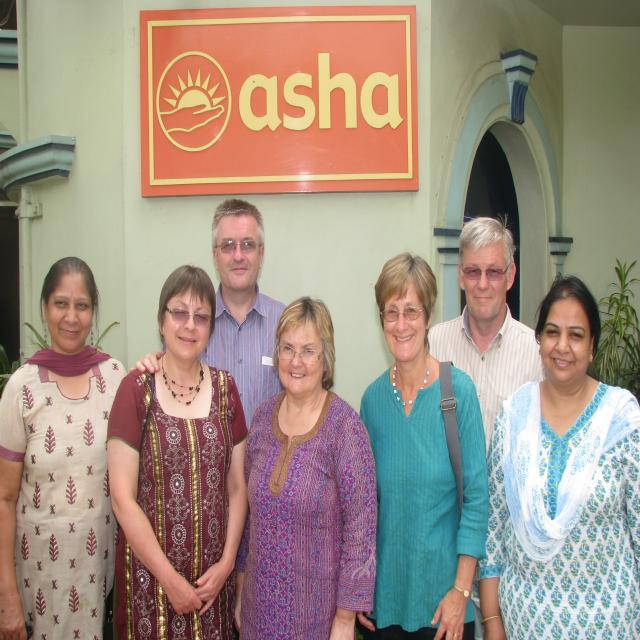body: (472, 273, 640, 640), (103, 255, 251, 640), (227, 287, 382, 640), (0, 258, 136, 640), (357, 251, 489, 640), (129, 197, 292, 446), (422, 213, 550, 464)
